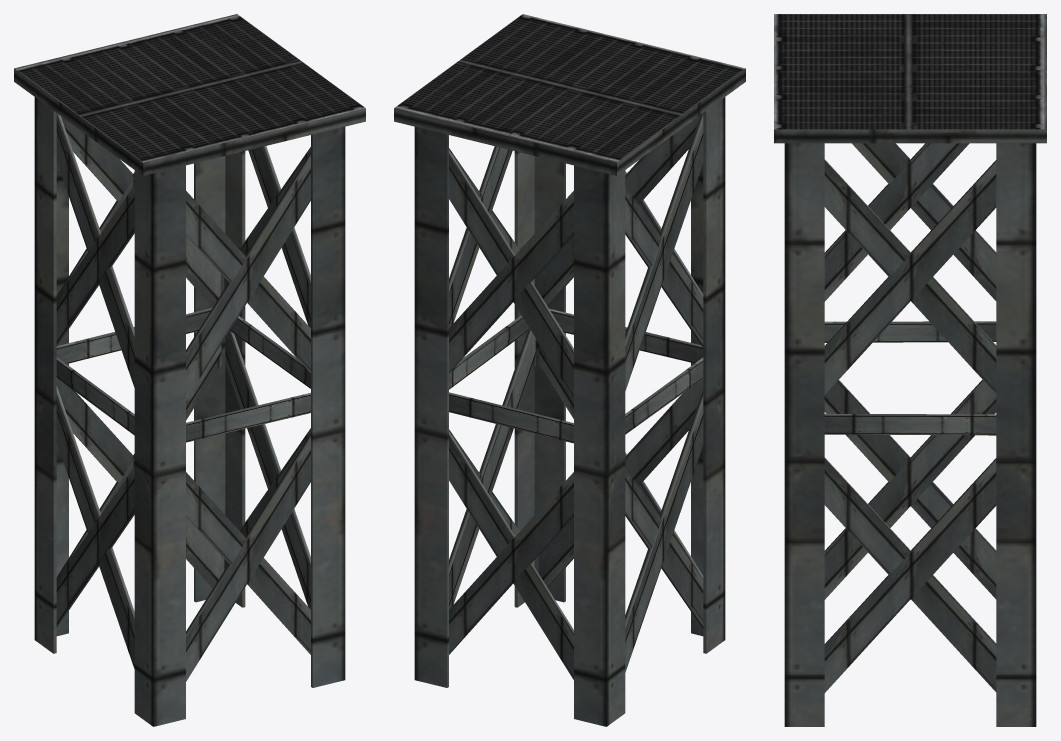
Rendered from colunadeaco.fbx.
The picture shows the model from 3 angles, left to right: view 1: azimuth 30°, elevation 25°; view 2: azimuth 150°, elevation 25°; view 3: azimuth 270°, elevation 25°; orthographic projection. The views are drawn at different scales.
Parts seen in each view (by area): view 1: Cube.004, Cube; view 2: Cube.004, Cube; view 3: Cube.004, Cube.
Part boxes in pixels (bbox=[...]): Cube.004: bbox=[14, 14, 365, 681]; Cube: bbox=[34, 97, 345, 726]; Cube.004: bbox=[394, 14, 745, 679]; Cube: bbox=[414, 97, 725, 726]; Cube.004: bbox=[774, 14, 1046, 692]; Cube: bbox=[784, 143, 1036, 726].
Size of the model in its own units: 1.21 by 2.96 by 1.21.
